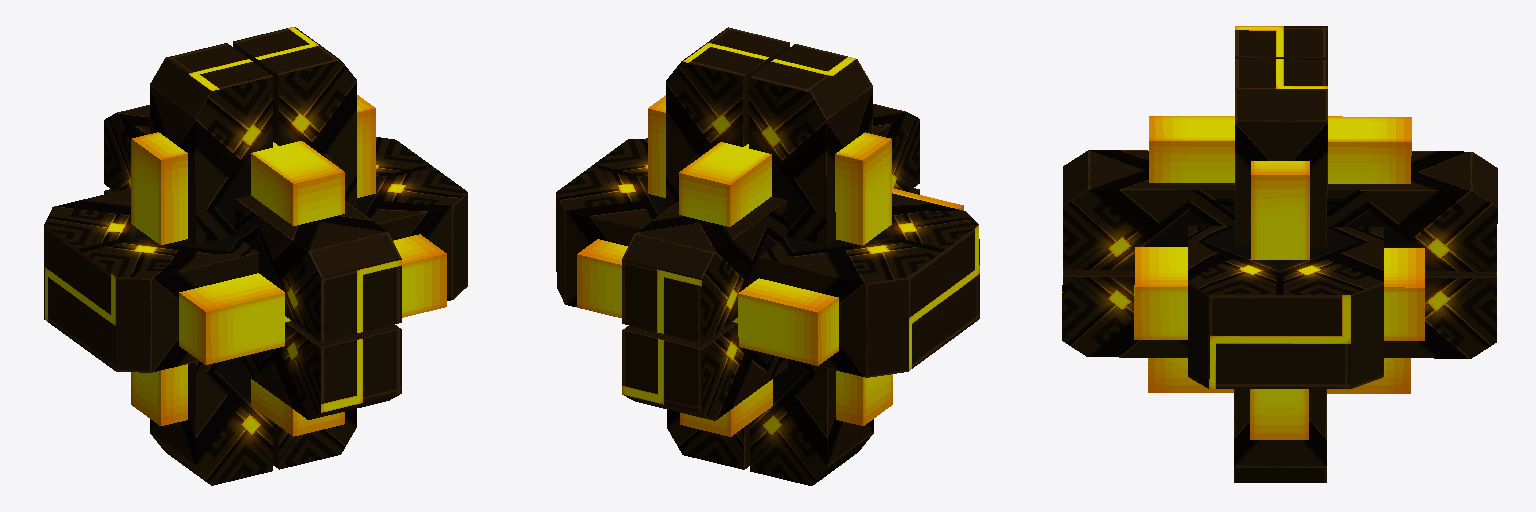
3 views of the same model, side by side, from view 1: azimuth 30°, elevation 25°; view 2: azimuth 150°, elevation 25°; view 3: azimuth 270°, elevation 25° (orthographic).
Parts seen in each view (by area): view 1: PlanetBeFall; view 2: PlanetBeFall; view 3: PlanetBeFall.
Part boxes in pixels (left/top/right/bottom): PlanetBeFall: left=44, top=27, right=467, bottom=485; PlanetBeFall: left=556, top=27, right=979, bottom=485; PlanetBeFall: left=1062, top=26, right=1497, bottom=482.
Size of the model in its own units: 154 by 165 by 165.
Materials: 3 (1 with a texture image).